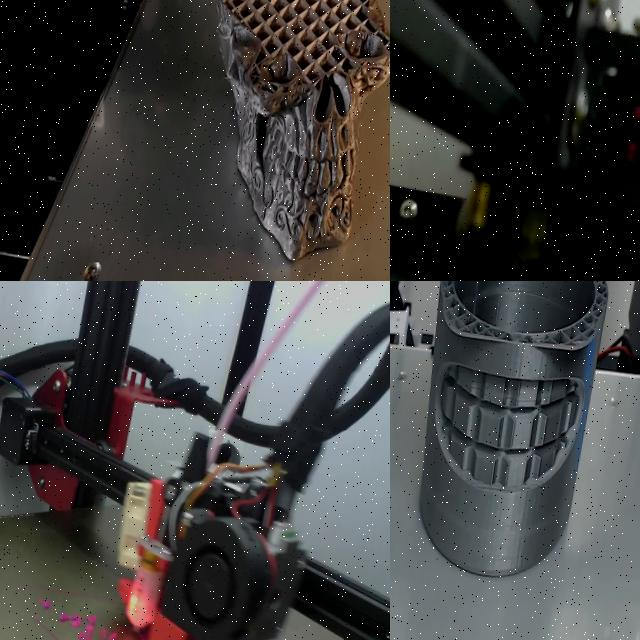spaghetti: (77, 615, 96, 640), (59, 613, 82, 628), (100, 629, 117, 640), (39, 600, 50, 609)
